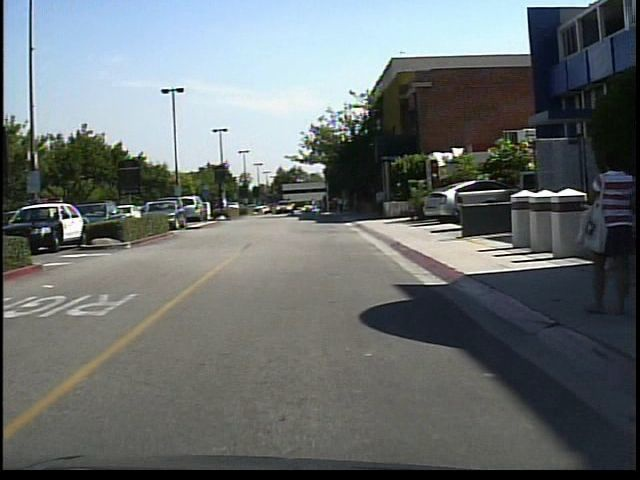person: (582, 139, 633, 318), (215, 191, 231, 219), (309, 196, 324, 222)
